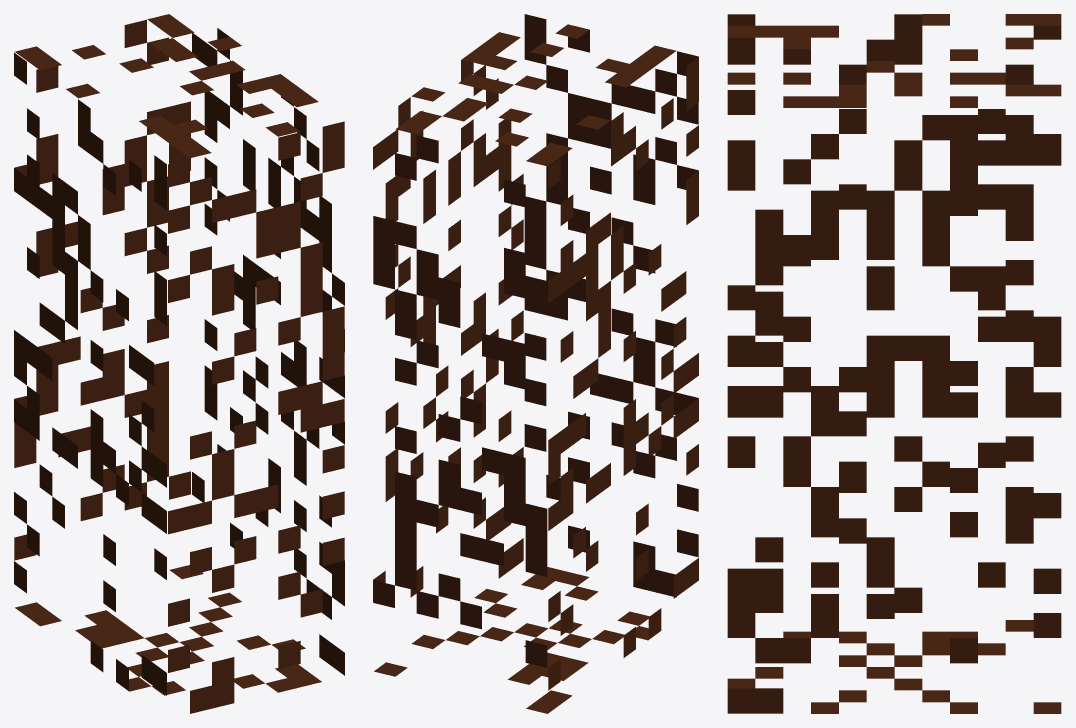
The model's file is crate_0.dae.
The picture shows the model from 3 angles, left to right: view 1: azimuth 30°, elevation 25°; view 2: azimuth 150°, elevation 25°; view 3: azimuth 270°, elevation 25°; orthographic projection. The views are drawn at different scales.
Parts seen in each view (by area): view 1: node0; view 2: node0; view 3: node0.
Part boxes in pixels (x1=…): node0: x1=14, y1=14, x2=344, y2=713; node0: x1=373, y1=14, x2=698, y2=713; node0: x1=727, y1=14, x2=1061, y2=713.
Bounding box in the file's own units: 2.01 × 3.01 × 6.01.
